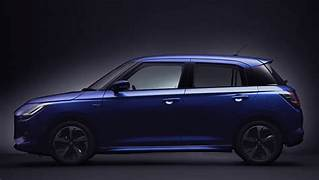Swift: (13, 45, 306, 164)
